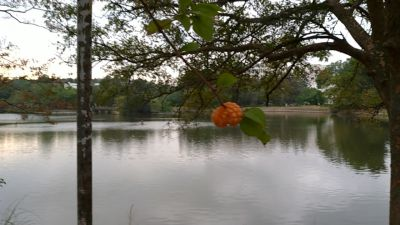eggs: (213, 100, 243, 130)
